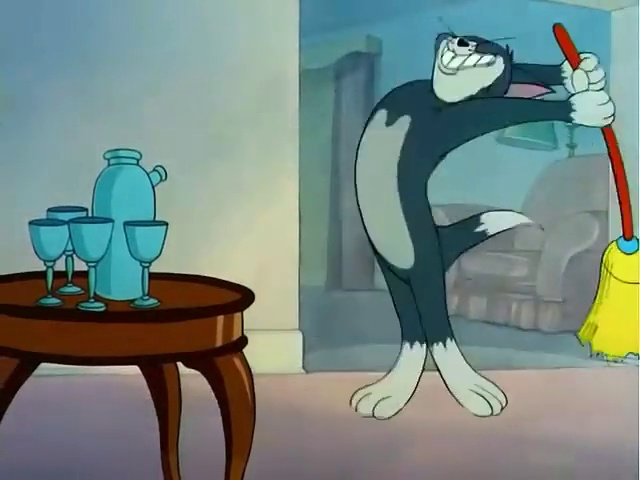tom: (338, 29, 618, 439)
